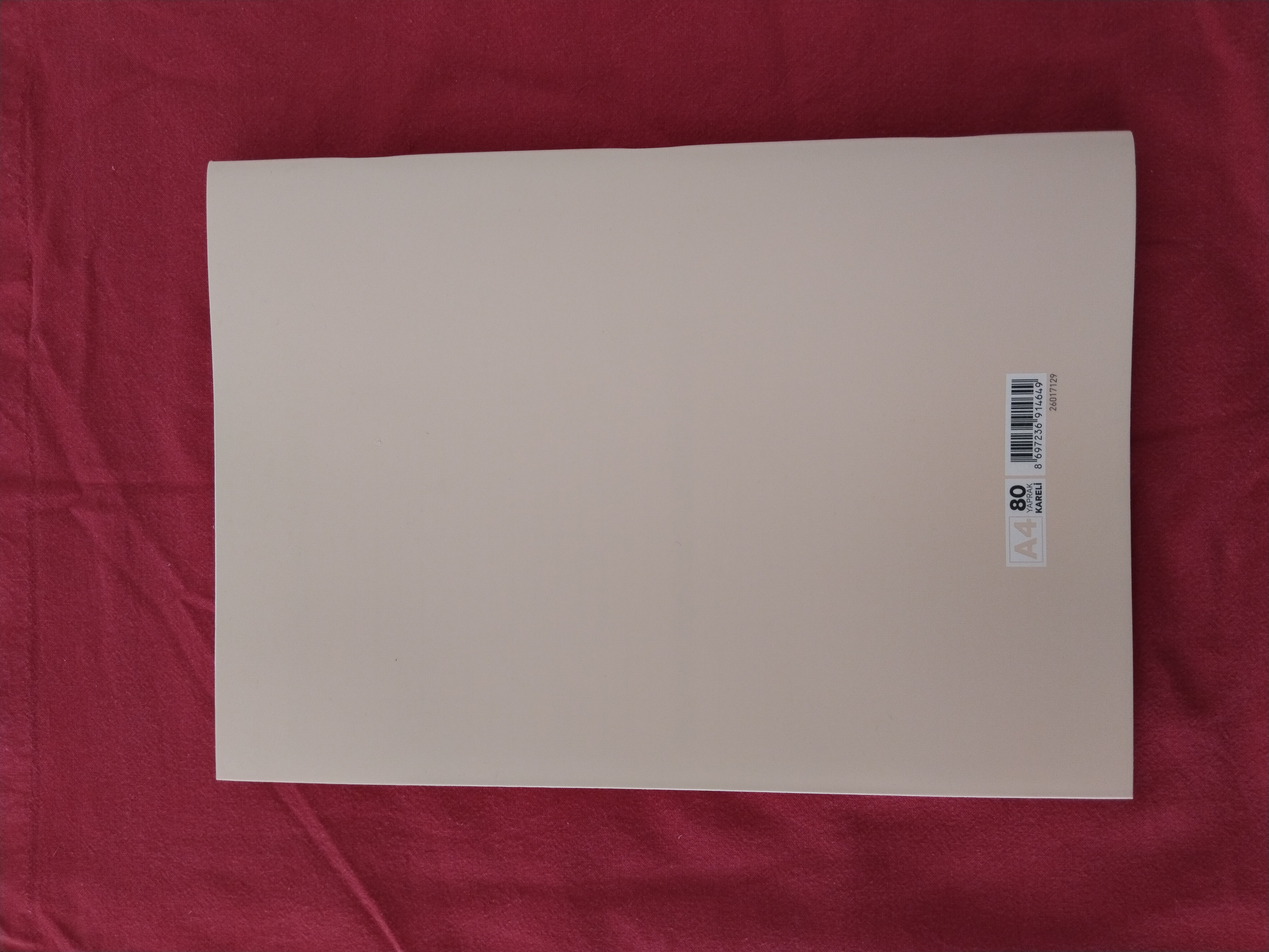60_sayfa_gipta_defter: (215, 125, 1138, 788)
